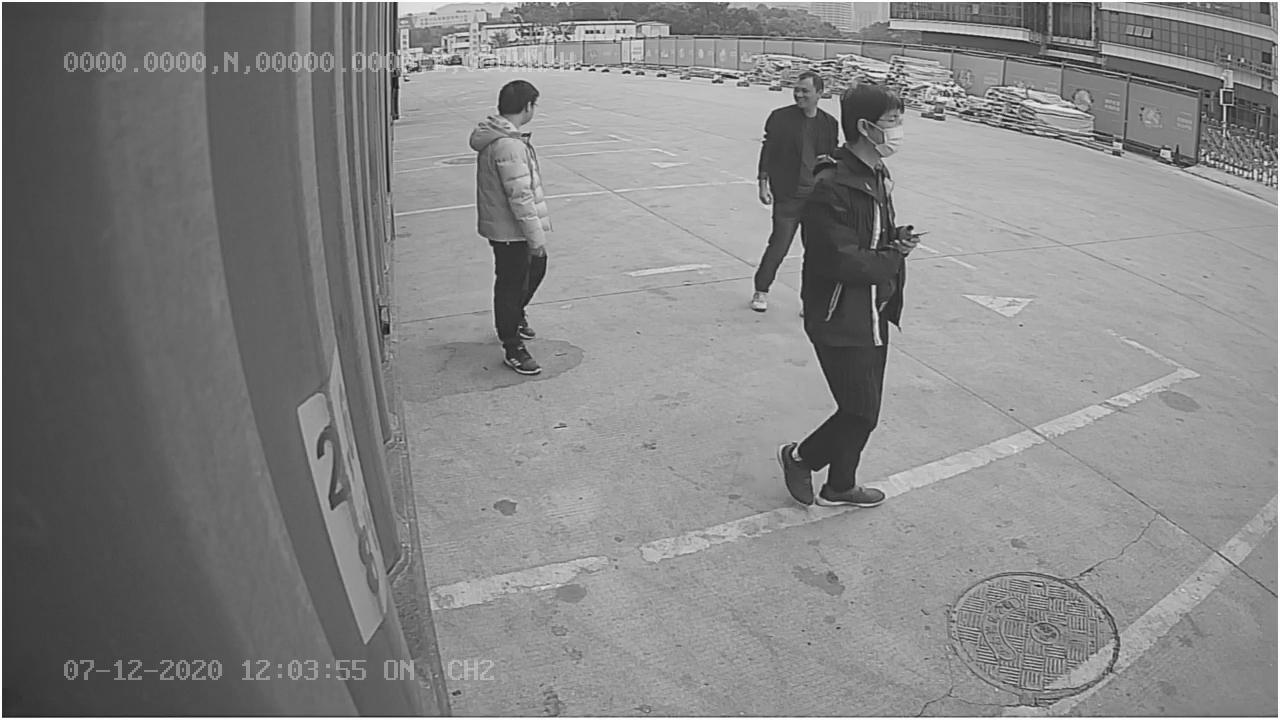person: (468, 80, 564, 379)
